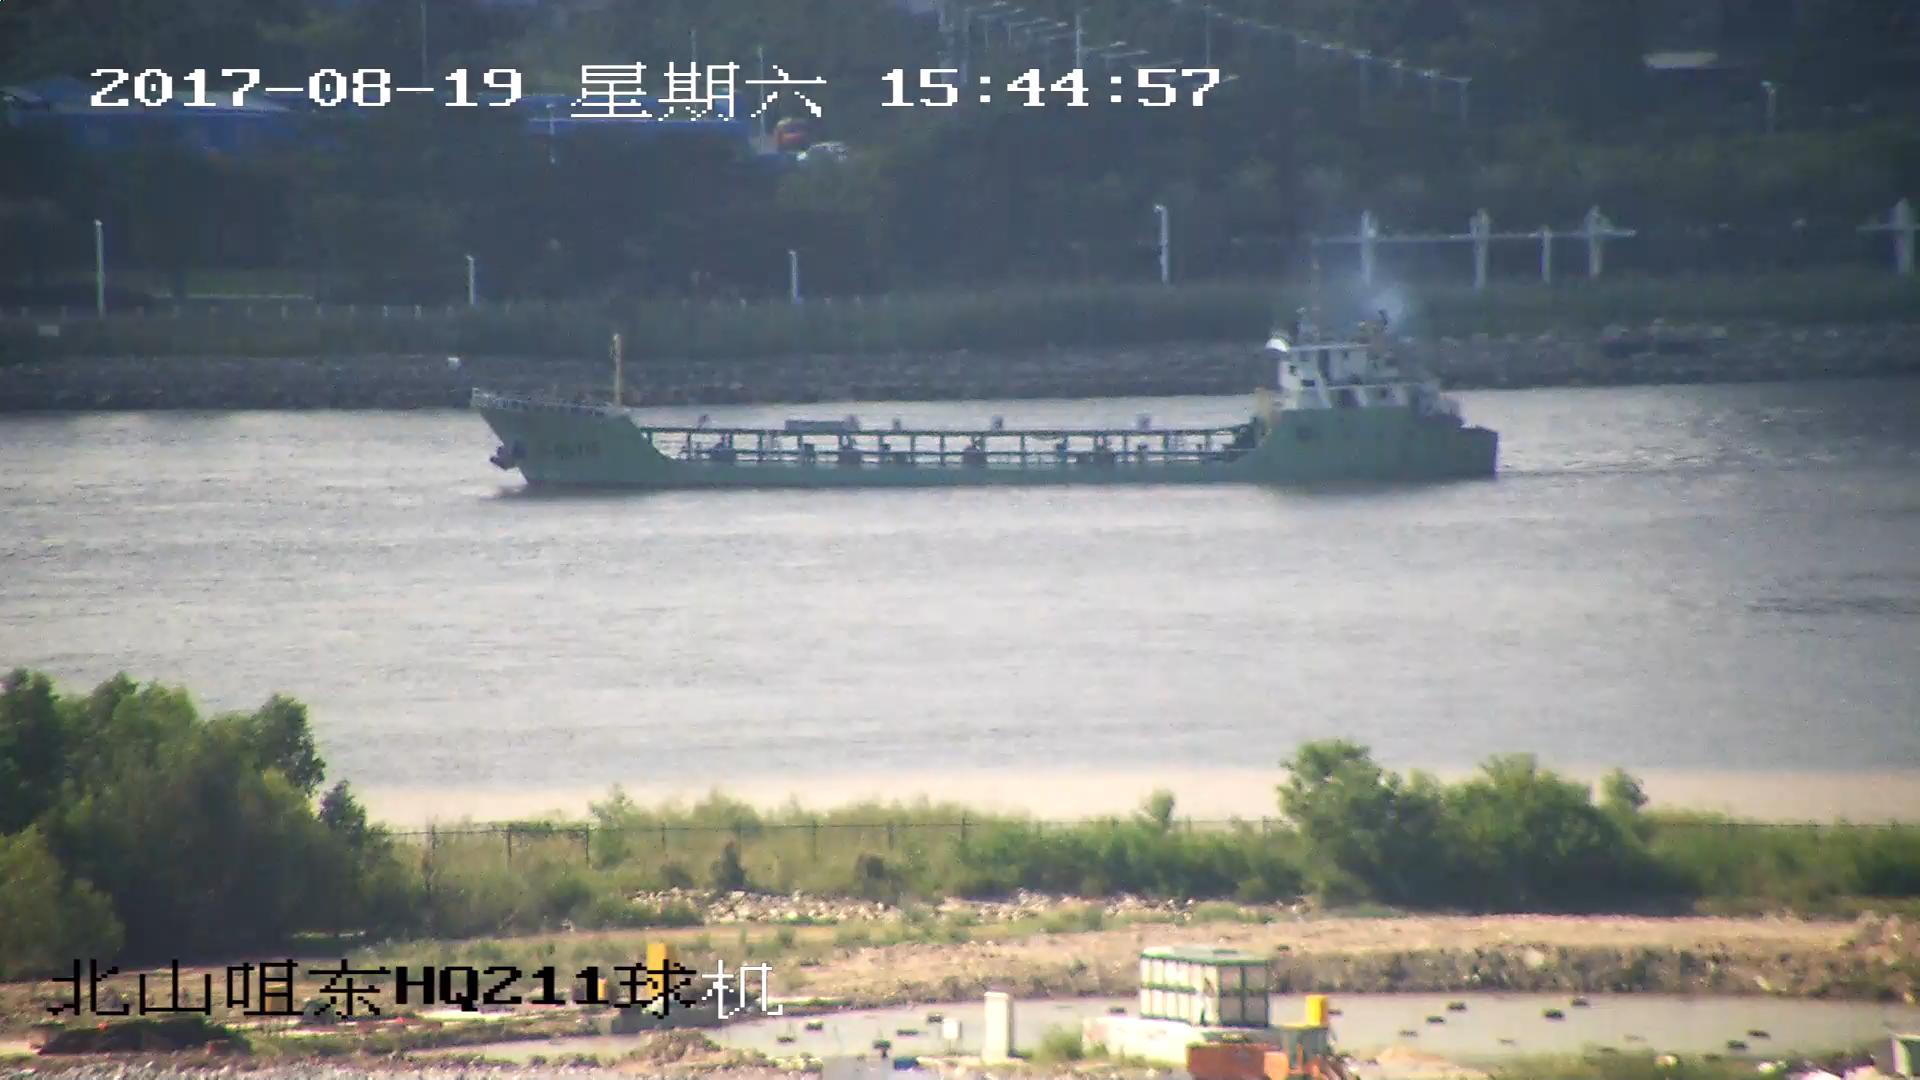general cargo ship: (470, 267, 1505, 478)
